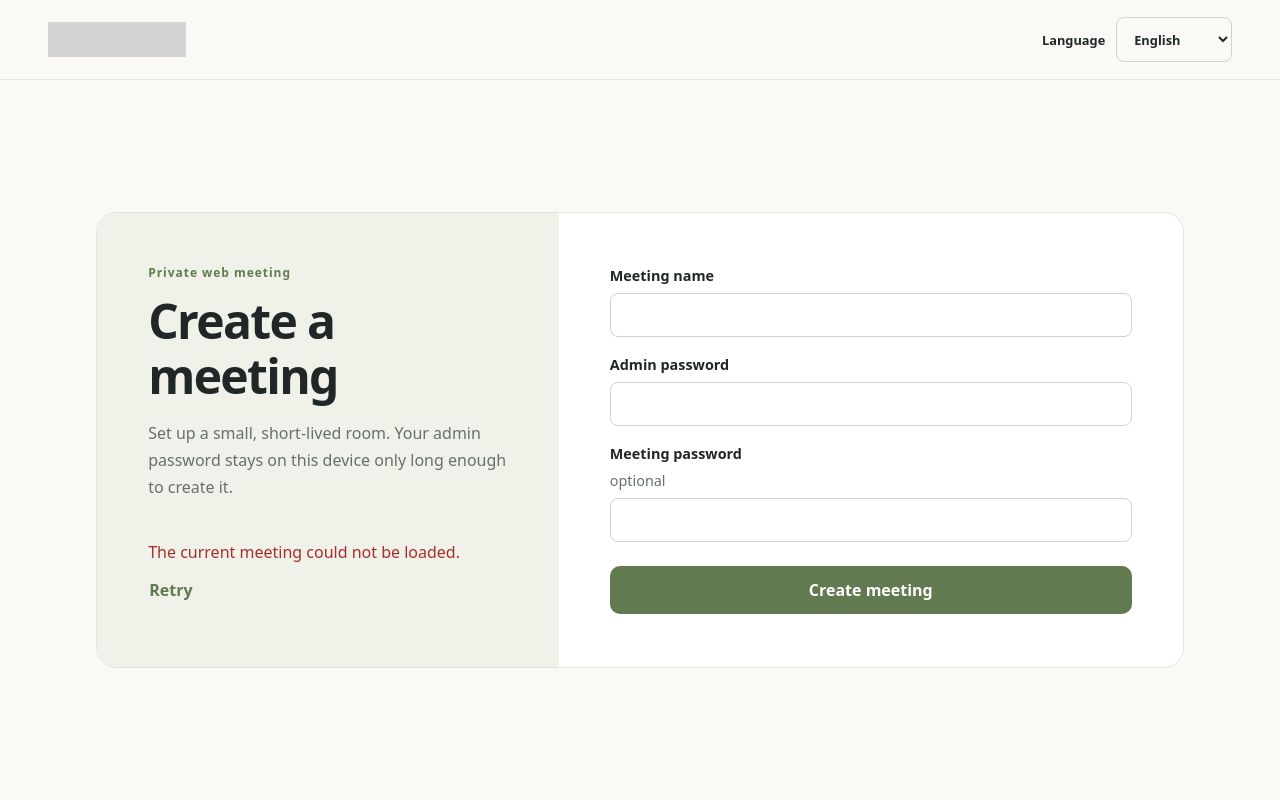
Test case: meeting creation › rejects a blank meeting name before sending a request
This screenshot has width=1280, height=800.
Click the button "Create meeting" at (871, 590), box [610,566,1132,614]
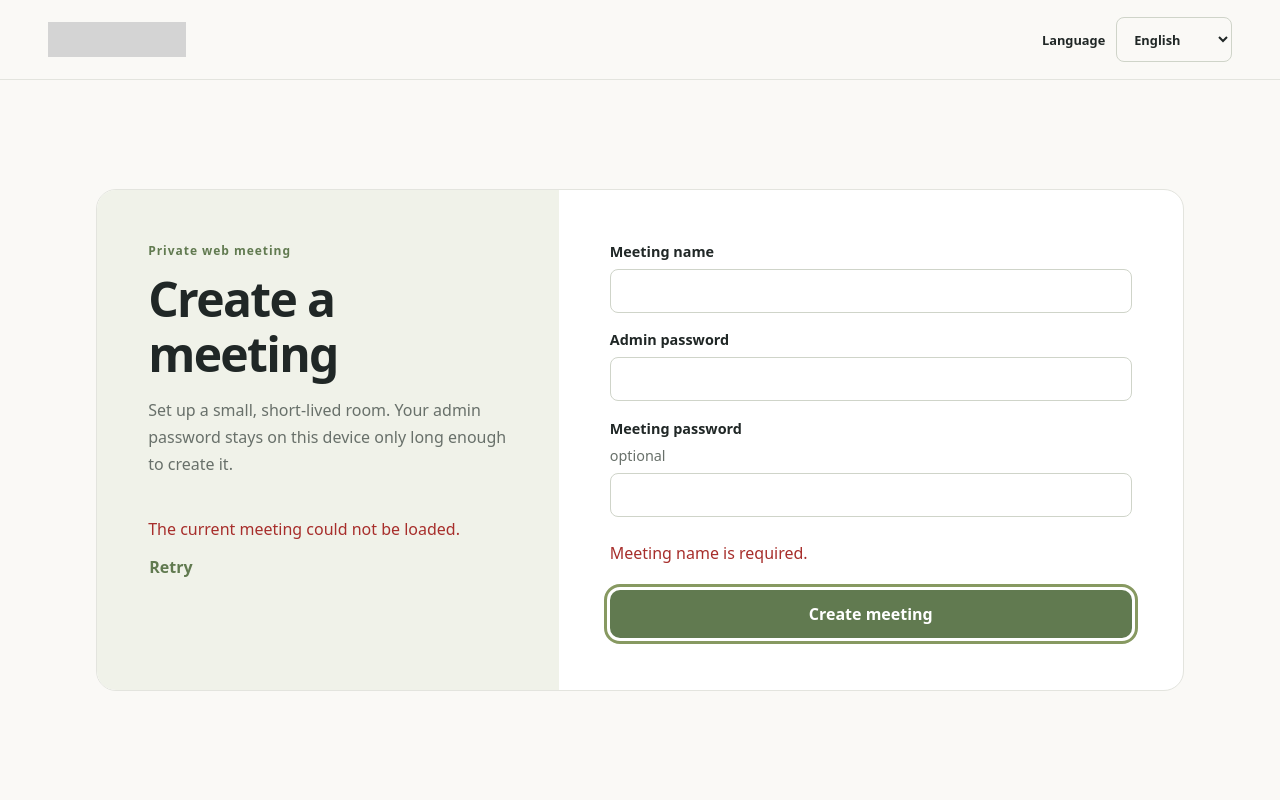
Now the text "Meeting name is required." is shown, box [610,542,808,564]
